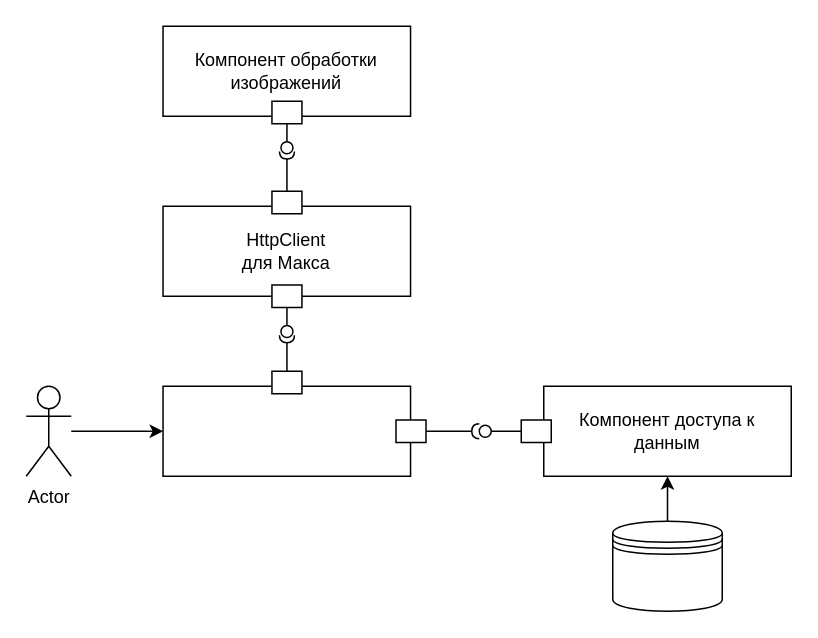
Image size: 818x638. Some labels were removed from this diagram. The centre of each missing label's shape, as x and y in pixels:
"Storage" belongs at point 666,565.
"Клиент MAX (Бот)" belongs at point 286,430.
